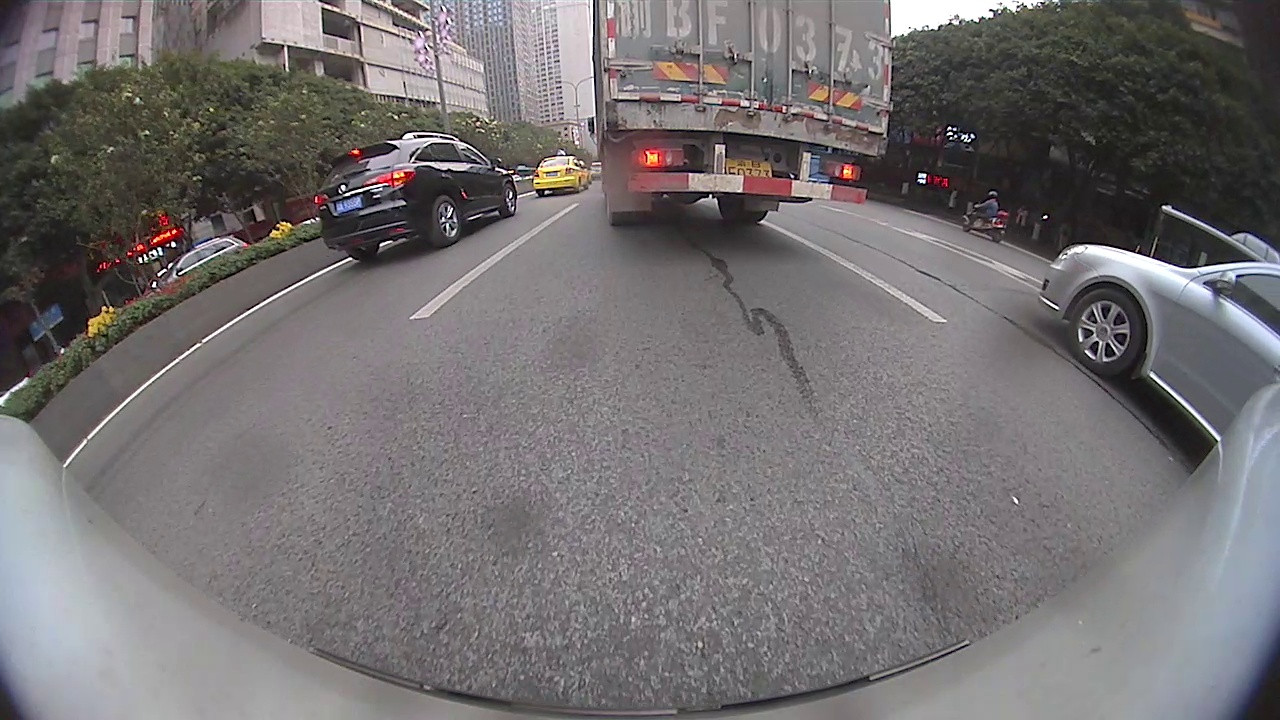bus: (1134, 205, 1276, 267)
car: (1036, 238, 1277, 440), (306, 134, 520, 263), (533, 151, 591, 198)
front: (1064, 285, 1147, 380), (499, 181, 519, 220)
rear: (422, 193, 464, 250)
rider: (962, 190, 1012, 245)
truck: (583, 3, 897, 230)
